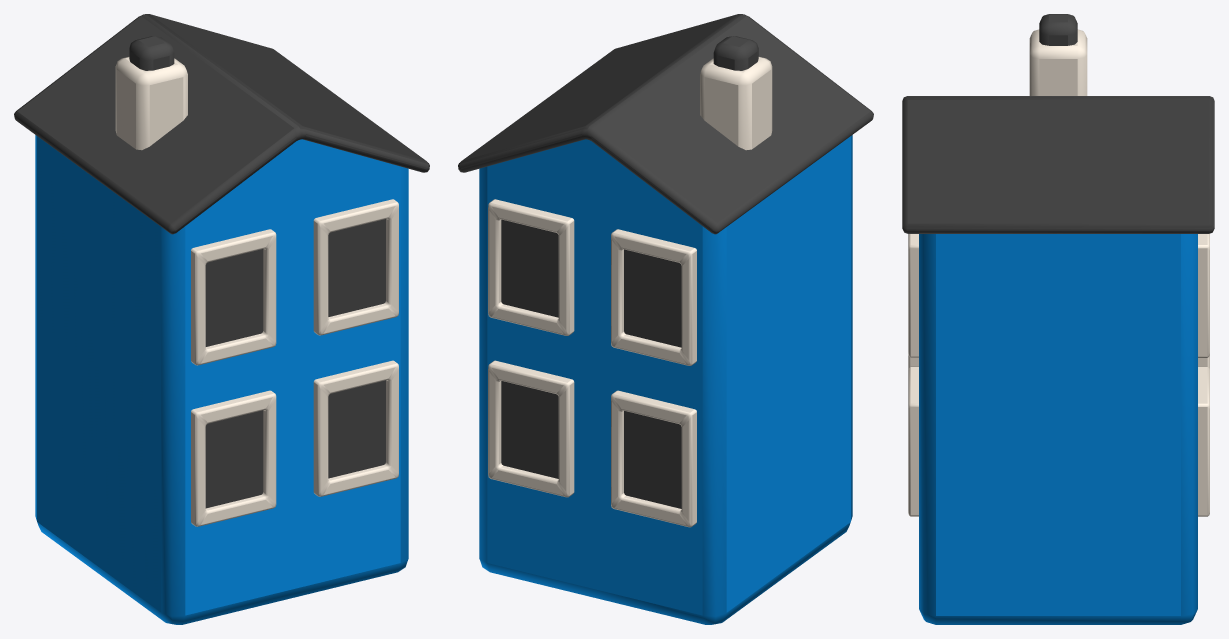
Rendered from Map_buliding_B.fbx.
3 views of the same model, side by side, from view 1: azimuth 30°, elevation 25°; view 2: azimuth 150°, elevation 25°; view 3: azimuth 270°, elevation 25° (orthographic).
Parts seen in each view (by area): view 1: Map_buliding_B; view 2: Map_buliding_B; view 3: Map_buliding_B.
Part boxes in pixels (bbox=[...]): Map_buliding_B: bbox=[14, 14, 429, 624]; Map_buliding_B: bbox=[458, 14, 873, 624]; Map_buliding_B: bbox=[902, 14, 1214, 624].
Size of the model in its own units: 2.13 by 4.12 by 2.24.
